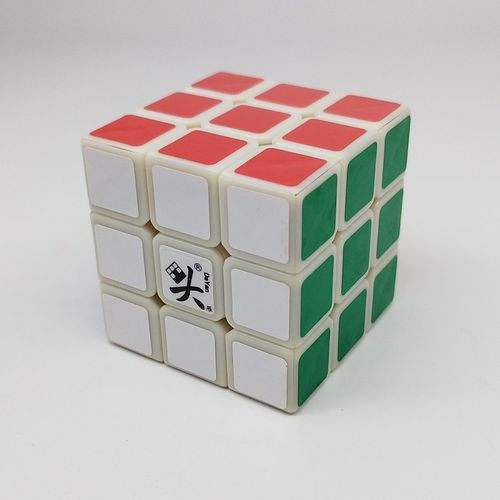cube: (75, 60, 420, 421)
